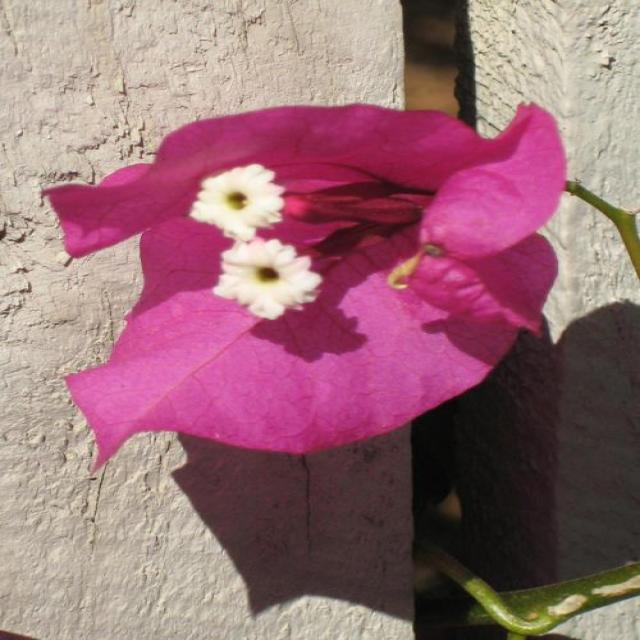bougainvillea: (39, 72, 621, 577)
